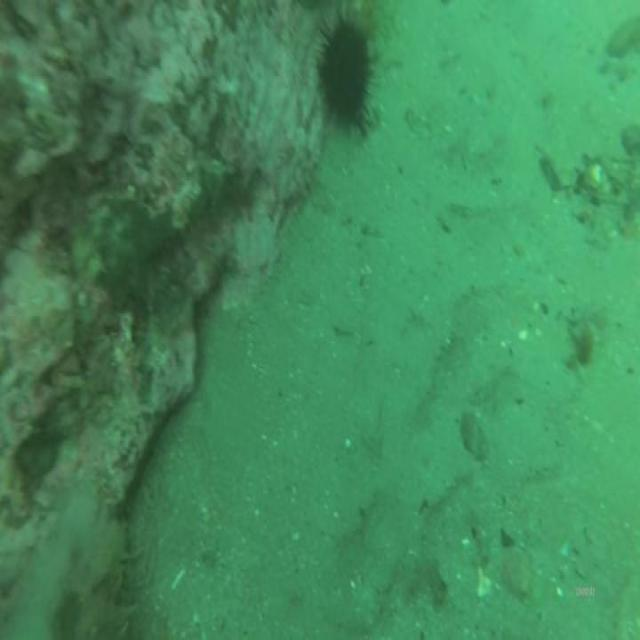echinus: (322, 25, 369, 125)
scallop: (501, 542, 534, 597), (458, 416, 489, 462), (588, 160, 606, 188)
